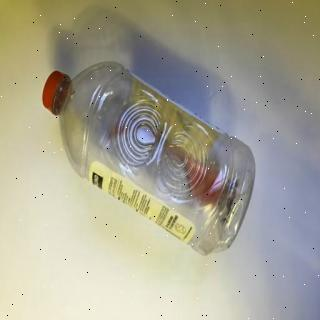Plastic-bottle: (41, 61, 258, 260)
